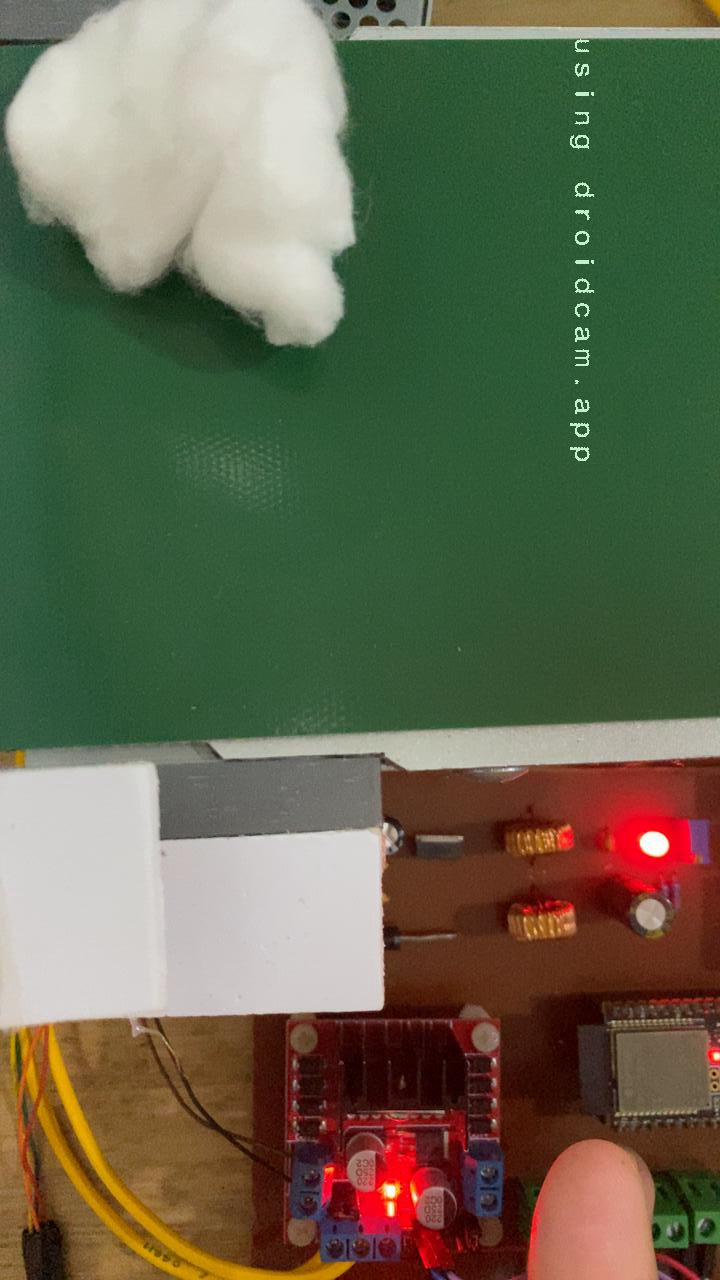cotton: (0, 39, 364, 348)
